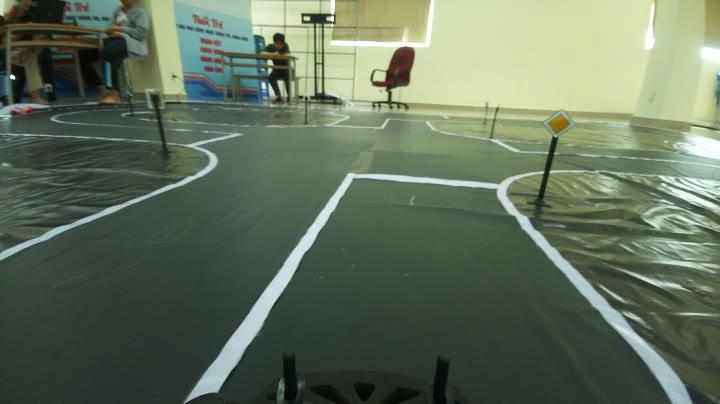priority: (541, 102, 579, 144)
